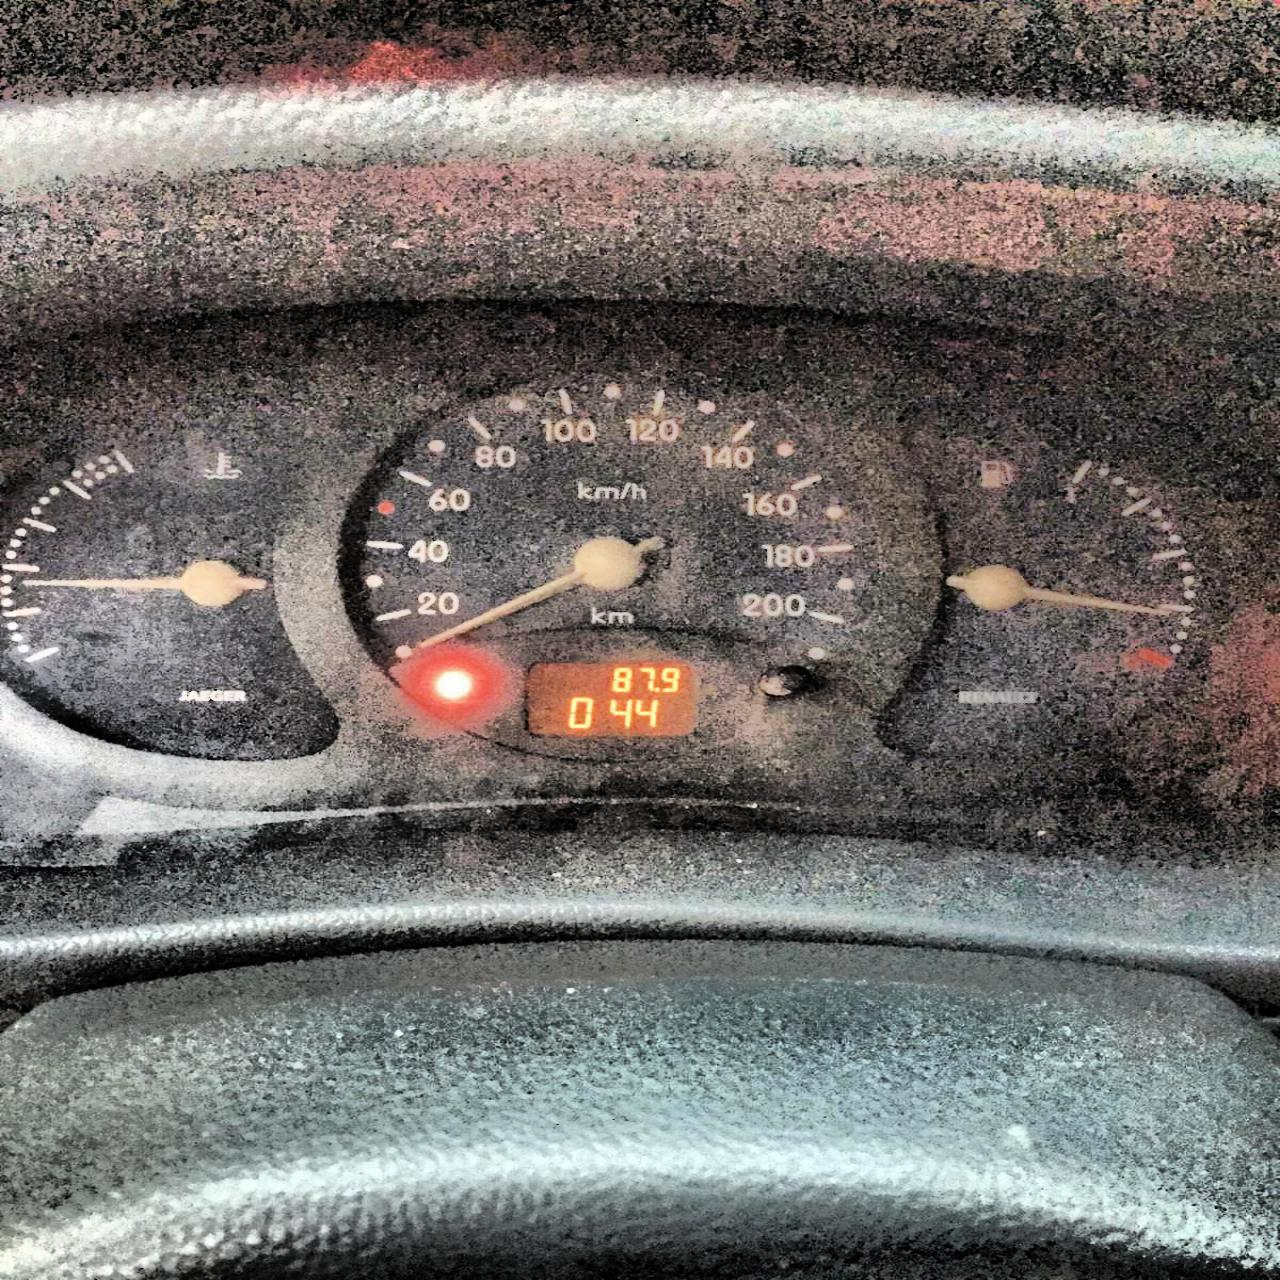-: (653, 686, 660, 692)
0: (566, 696, 593, 729)
4: (608, 697, 633, 728), (634, 697, 659, 728)
7: (638, 666, 655, 692)
8: (611, 666, 633, 692)
9: (660, 667, 680, 693)
odometer: (520, 658, 706, 741)
